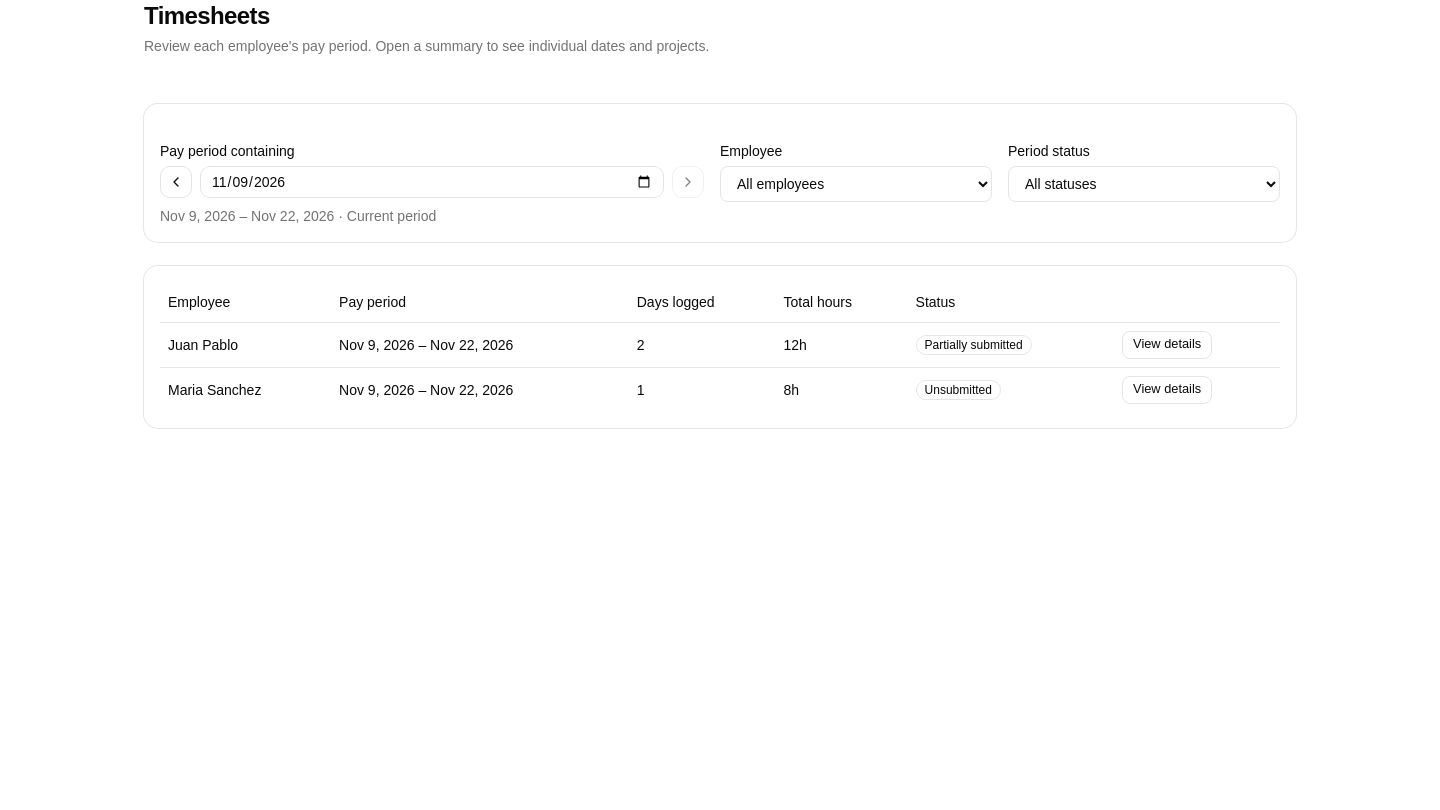
partially submitted entries allow return but block approval
Click the button with aria-label "View Juan Pablo's timesheet details". click: (1167, 344)
box: [1122,330,1212,358]
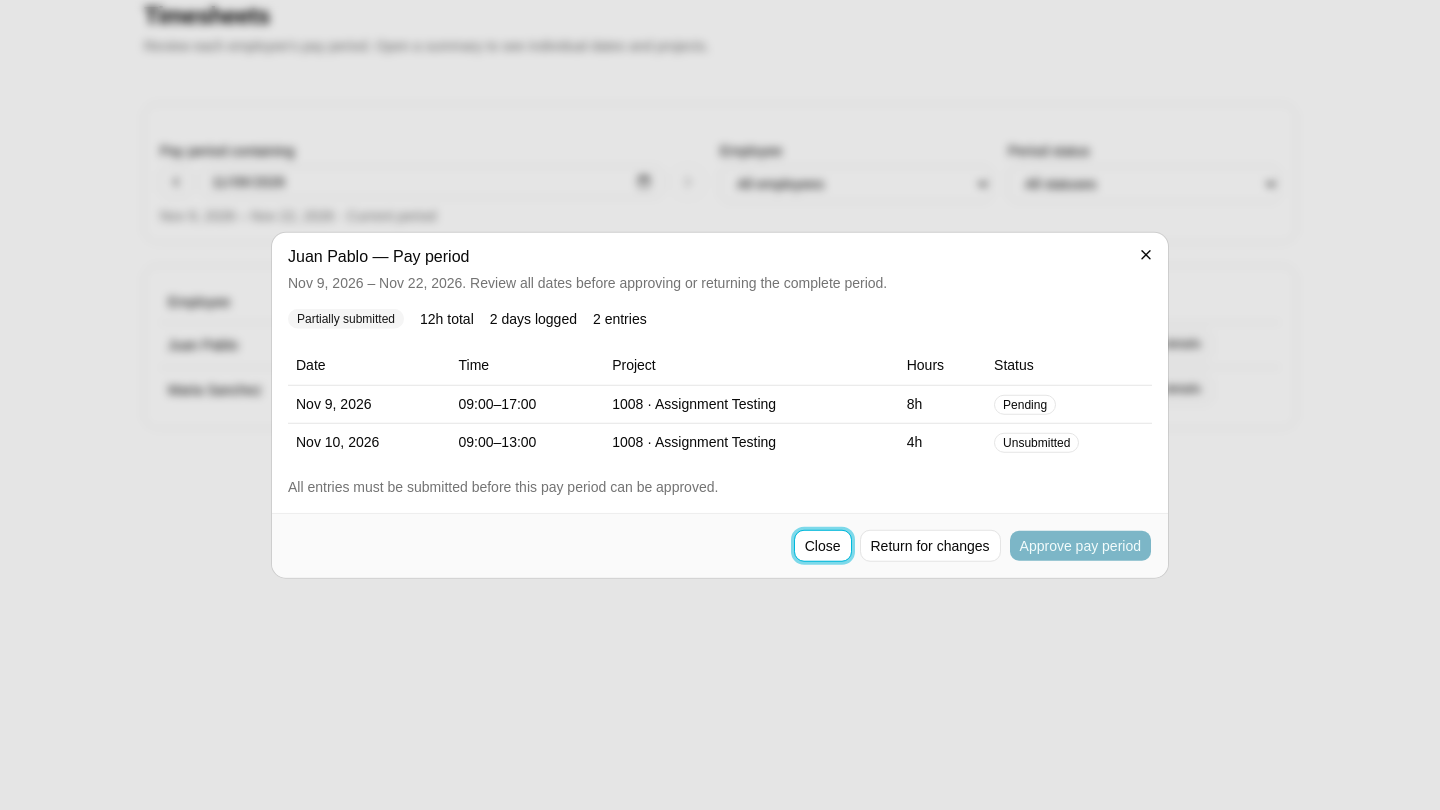
Now the text "Partially submitted" is shown, box [288,309,404,329]
Now the button "Approve pay period" is disabled, box [1009,529,1152,561]
Now the button "Return for changes" is enabled, box [860,529,1001,561]
